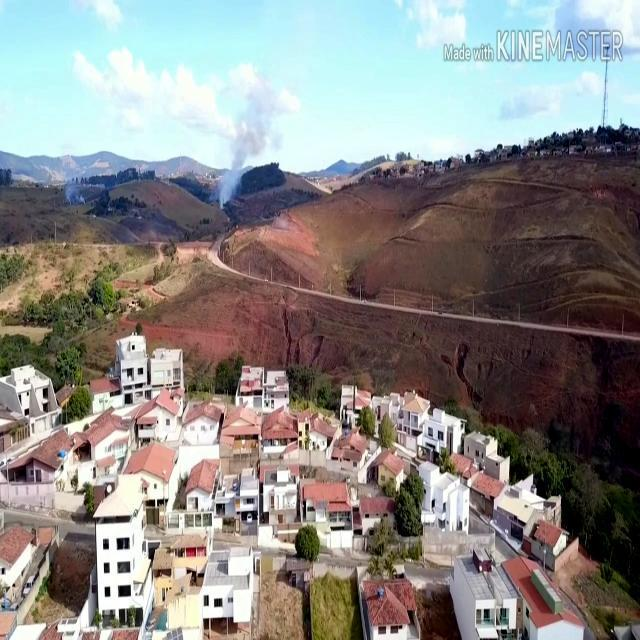Smoke: (214, 92, 274, 210)
